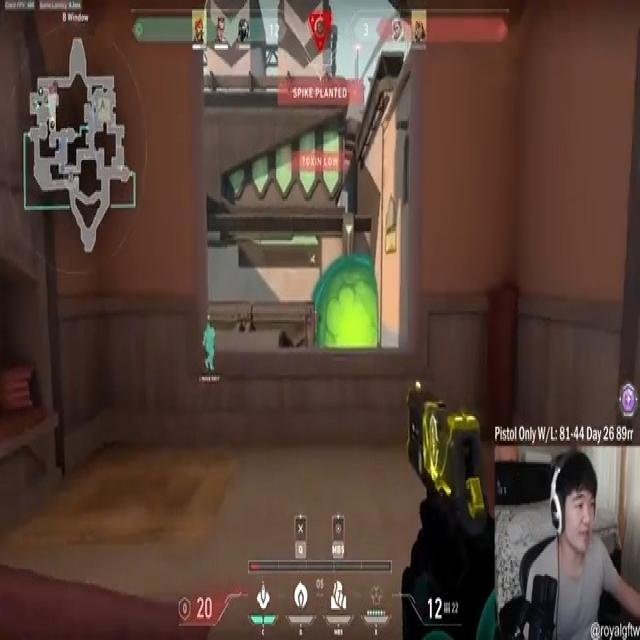ally behind wall: (204, 320, 218, 370)
smoke: (309, 256, 390, 354)
